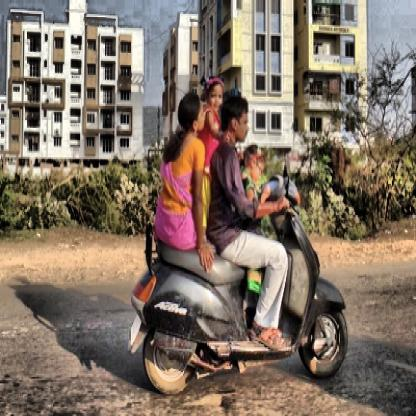not_wear: (219, 90, 249, 146), (182, 92, 206, 134), (208, 69, 223, 116)
